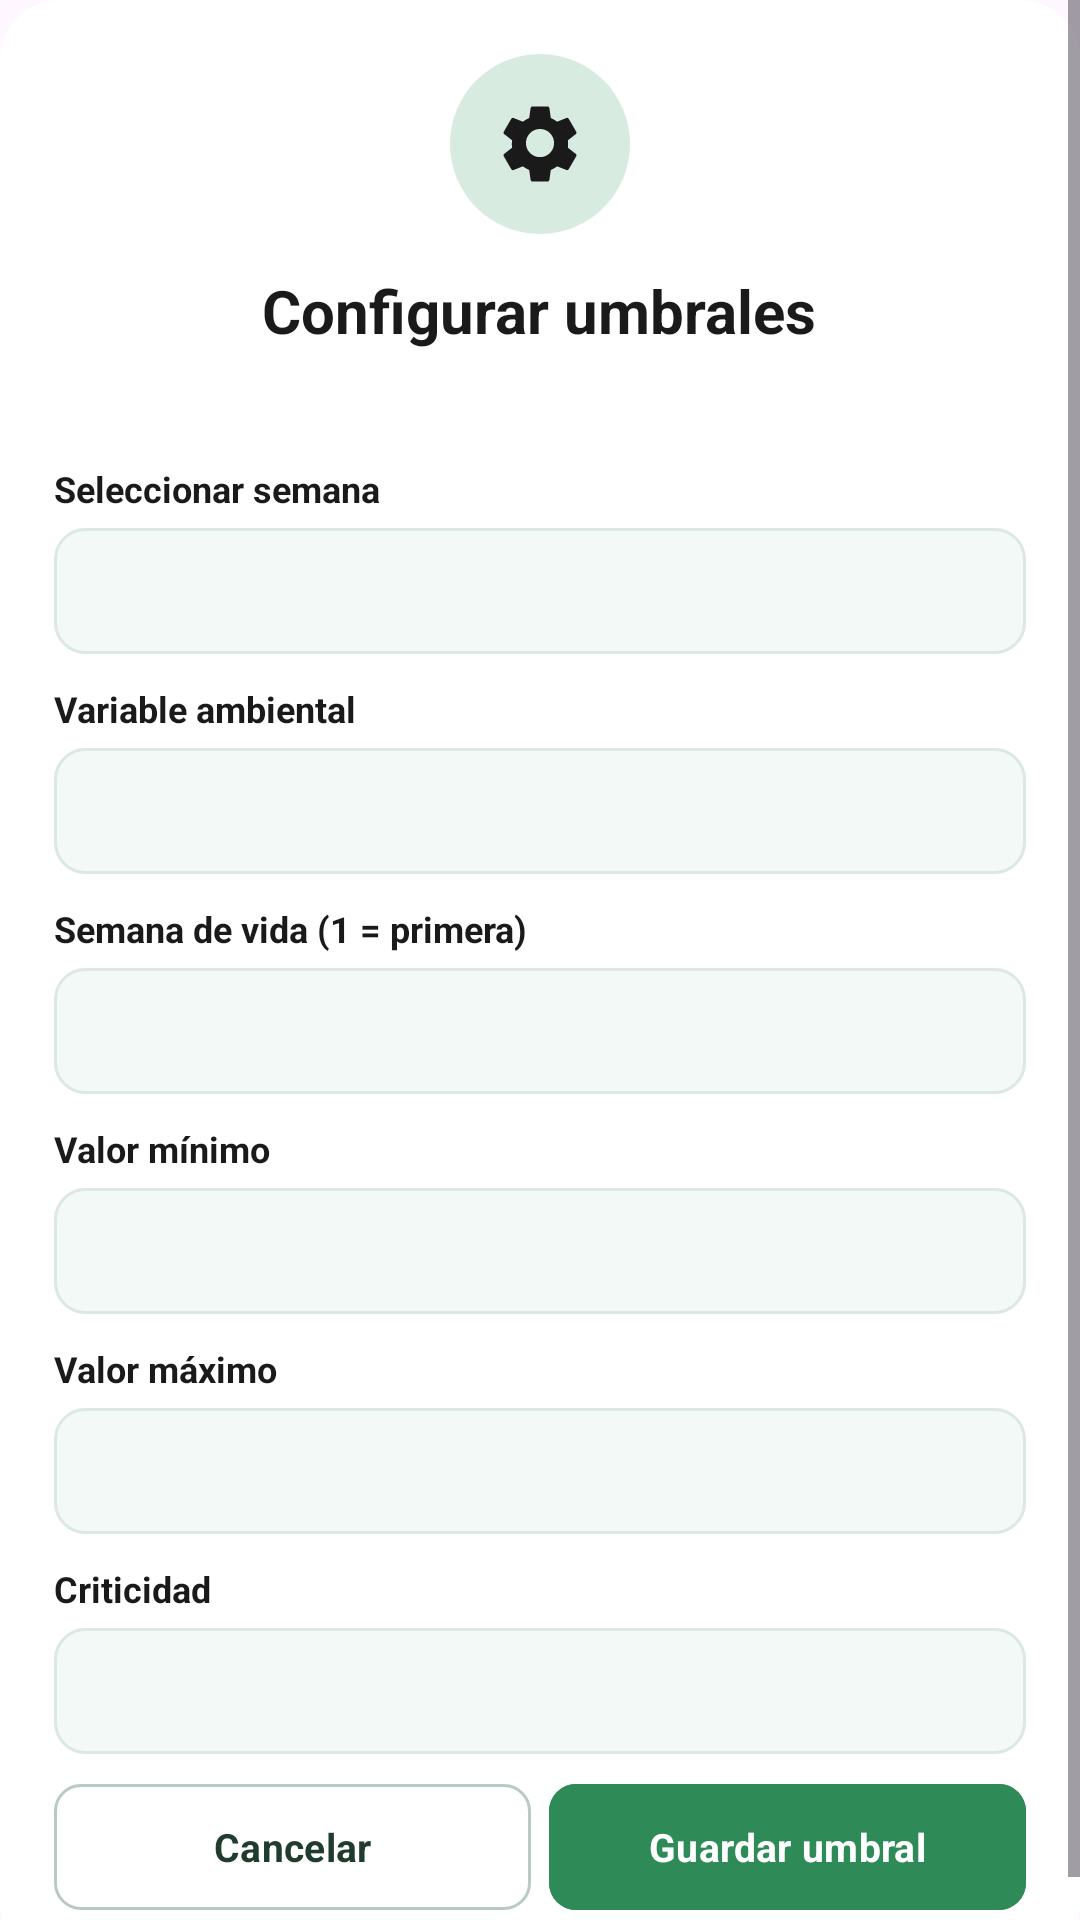

Where icons sit on this 1080 x 1920 app screen, as (x1, y1, x2, y2):
settings: (503, 106, 577, 182)
